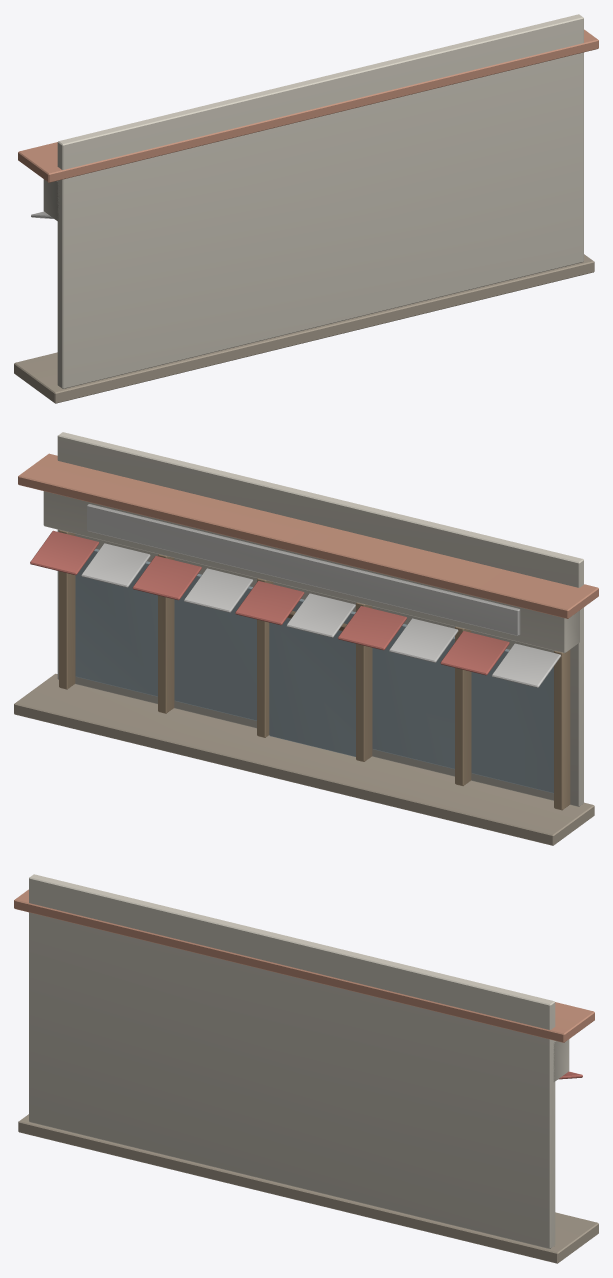
File: facade_mall.glb
The picture shows the model from 3 angles, top to bottom: view 1: azimuth 30°, elevation 25°; view 2: azimuth 150°, elevation 25°; view 3: azimuth 330°, elevation 25°; orthographic projection.
Bounding box in the file's own units: 30.6 × 13.6 × 4.
